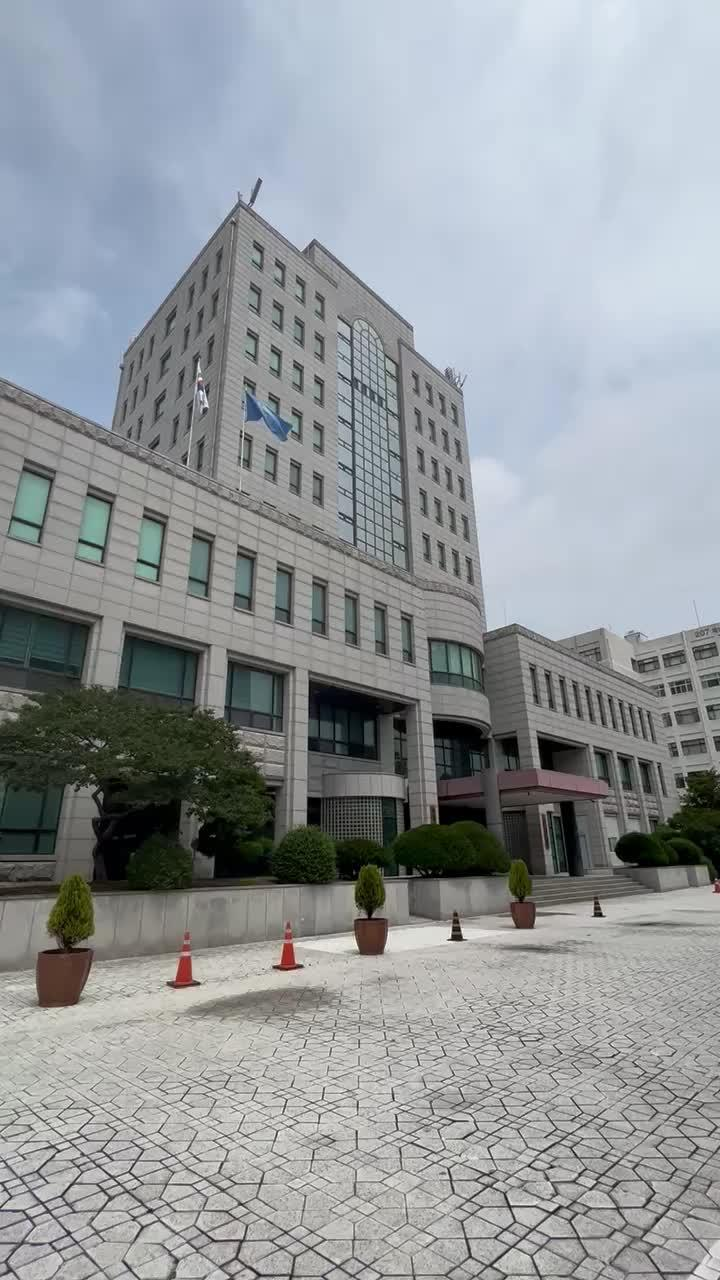building: (84, 214, 508, 724)
